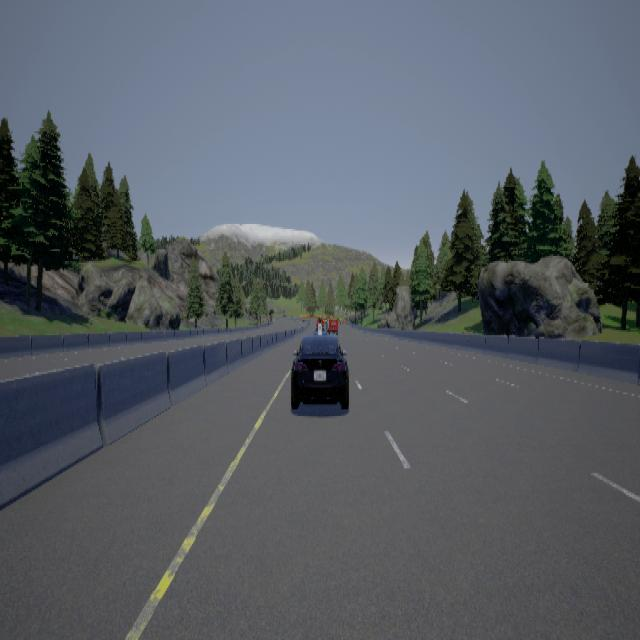vehicle: (290, 316, 348, 408)
